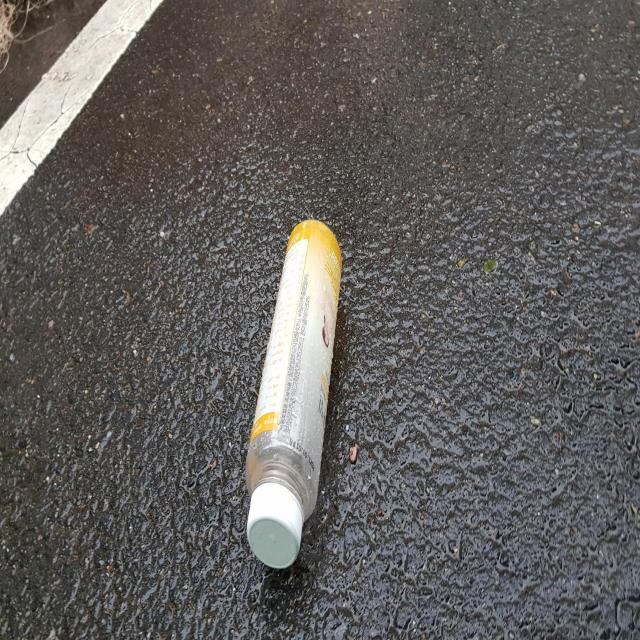plastic: (246, 219, 342, 568)
